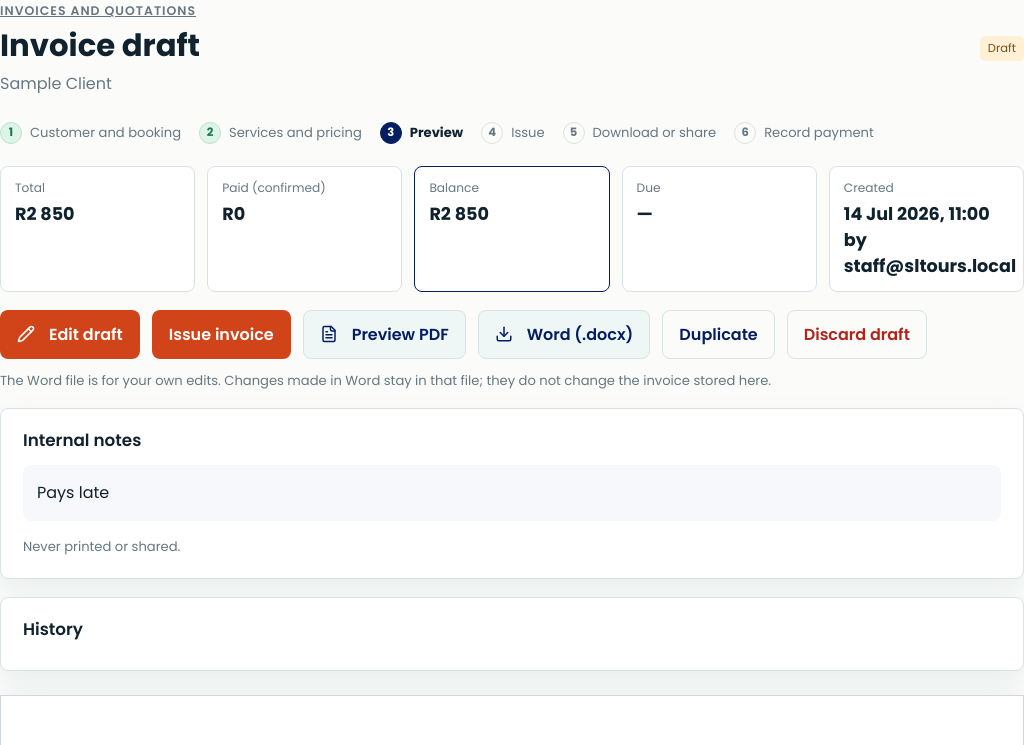
Test case: DocumentPage › asks an administrator to confirm before issuing, then sends the version once
Click the button "Issue invoice".
click(221, 334)  # box [152,310,291,359]
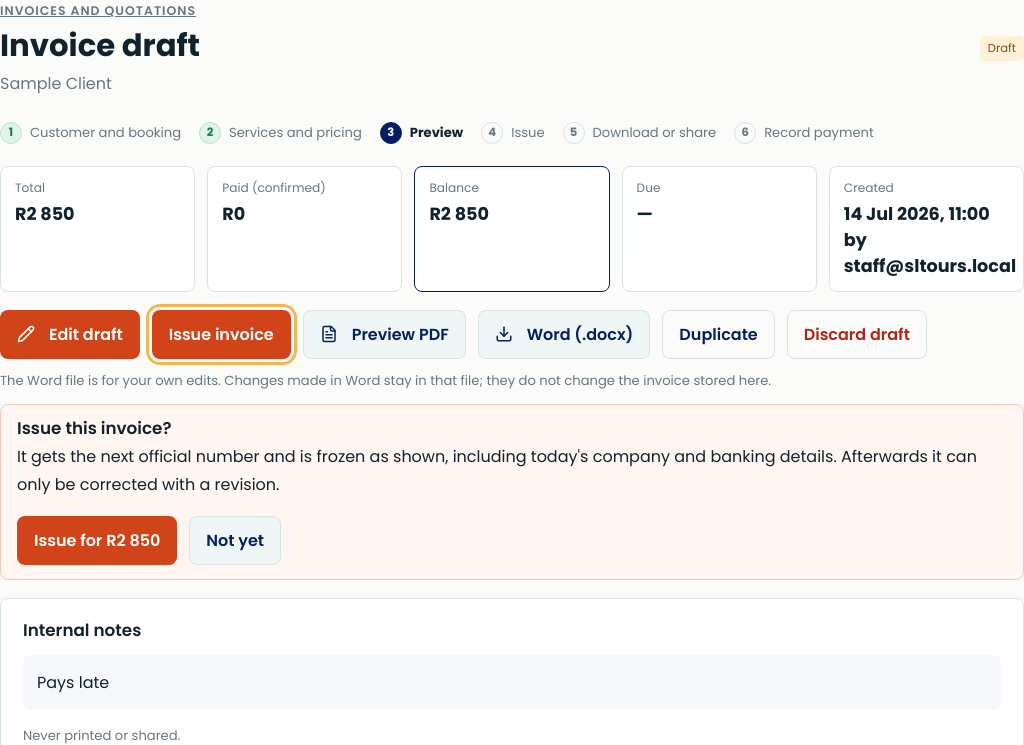
Expected: the dialog "Issue this invoice?" is shown, [0,404,1023,580]
Click the button "Issue for R2 850".
click(97, 540)  # box [17,516,177,565]
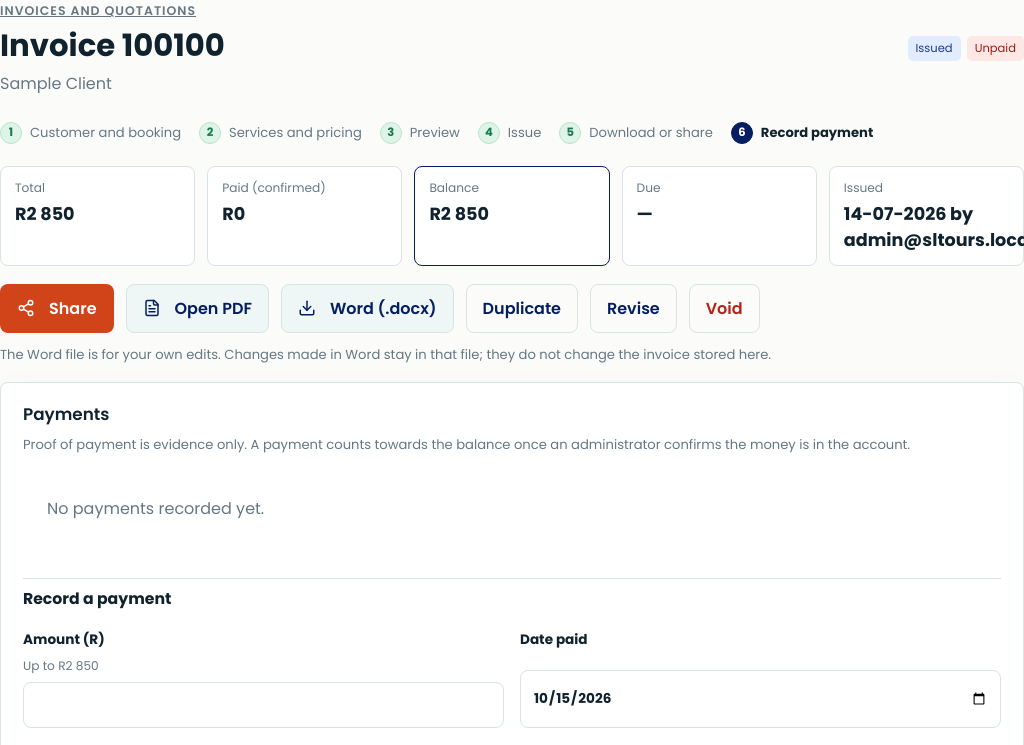
Expected: the heading "Invoice 100100" is shown, [0,29,225,62]
